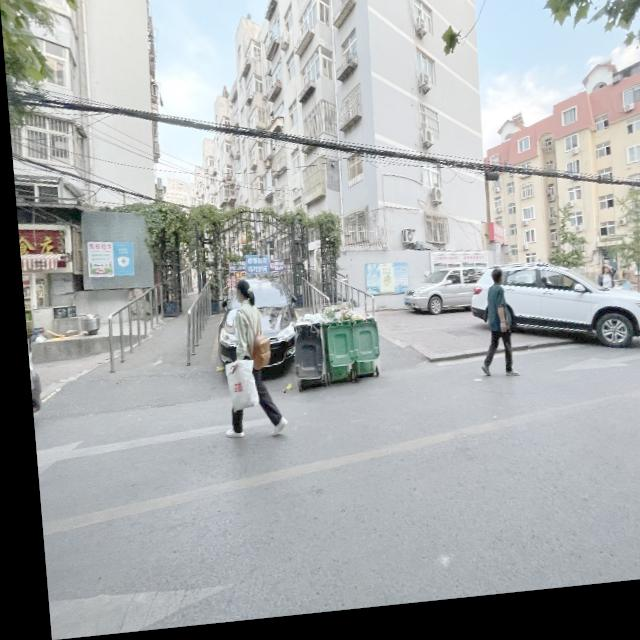overflow: (284, 318, 321, 396), (312, 308, 348, 388), (344, 313, 374, 382)
